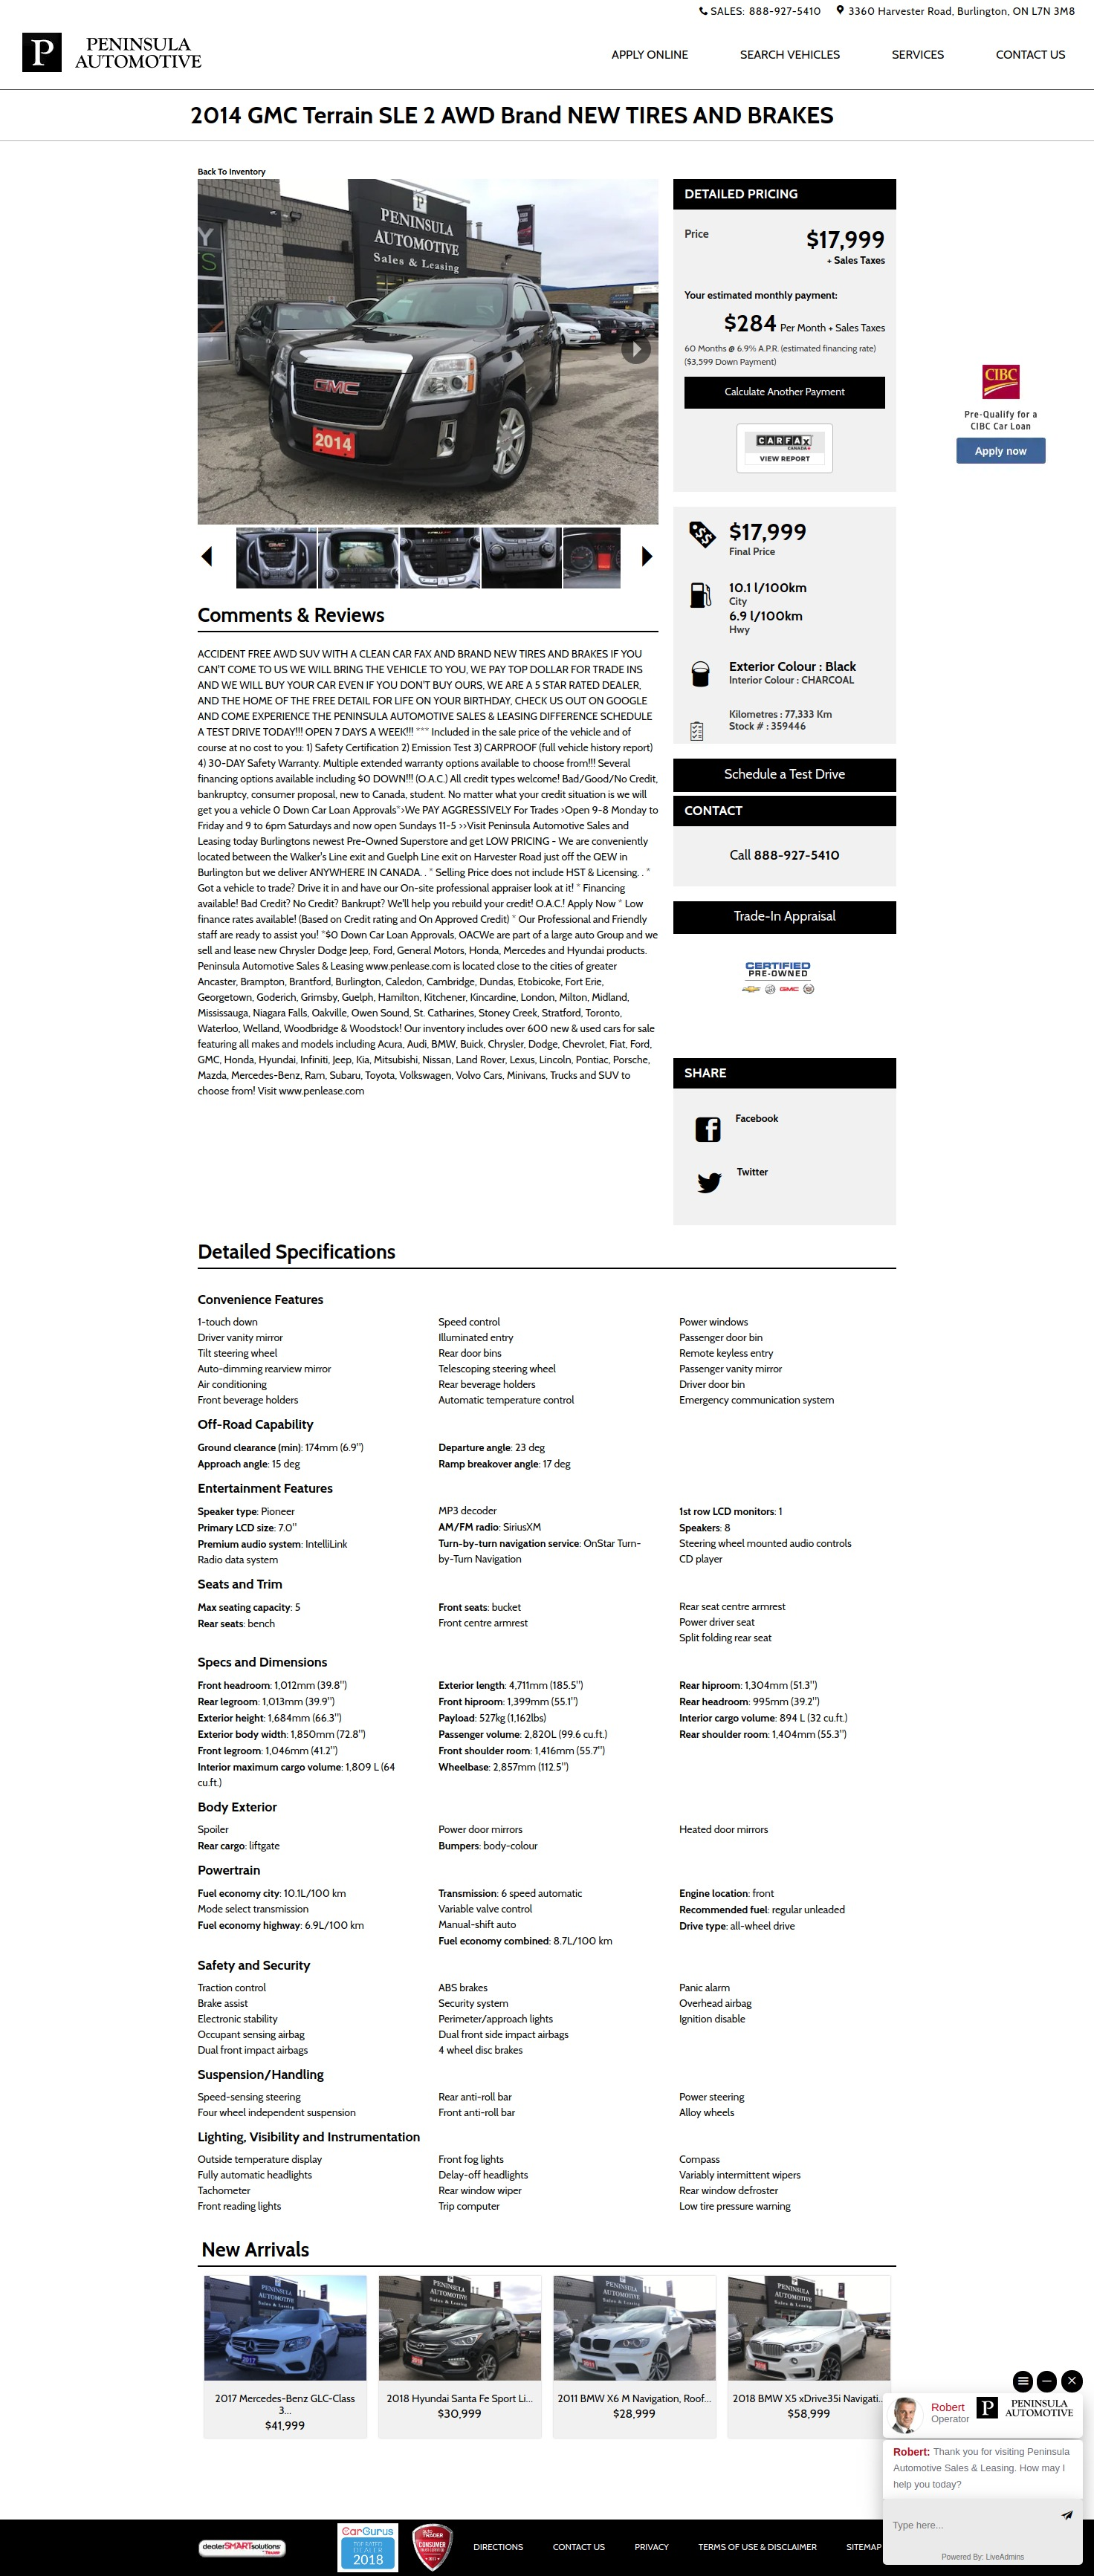car: (641, 545, 654, 568)
